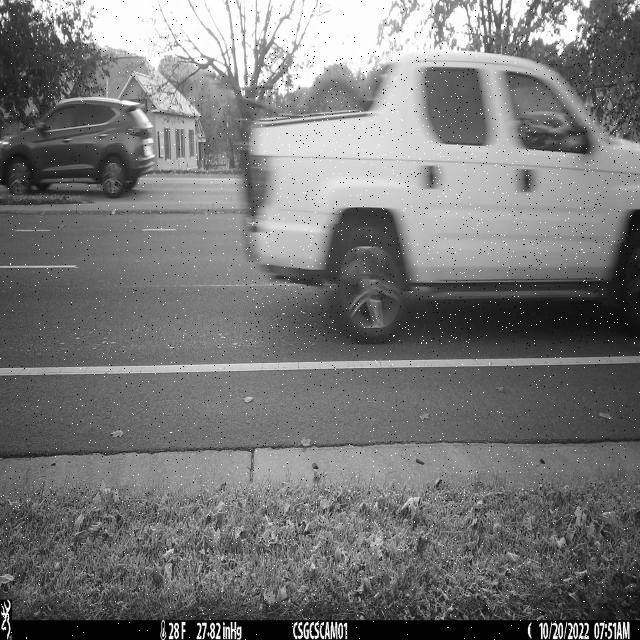Pickup: (245, 51, 640, 344)
